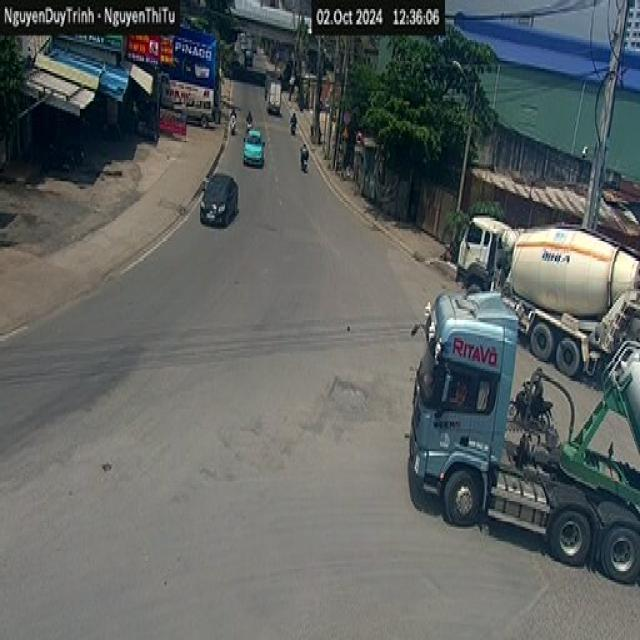car: (198, 171, 238, 227), (243, 126, 265, 166)
container-truck: (405, 282, 639, 584)
motorcycle: (223, 118, 239, 136), (296, 156, 309, 175), (287, 115, 297, 132)
person: (300, 142, 309, 171), (229, 107, 236, 133), (245, 109, 253, 131), (290, 111, 298, 133)
truck: (466, 214, 640, 388), (268, 64, 286, 112)
